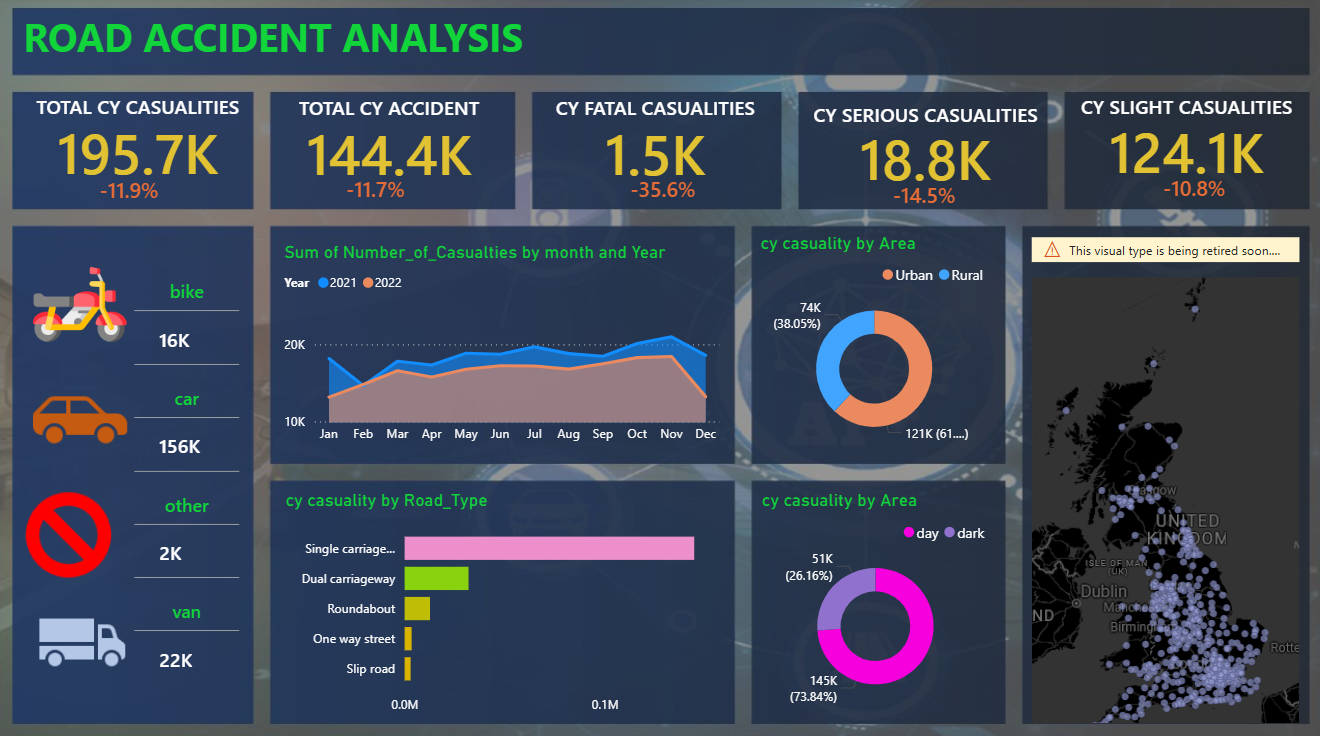

Layout of this report page (visuals, bound fields, positions):
{"tool":"powerbi","page":{"name":"Page 1","canvas":[1280,720],"ordinal":0},"visuals":[{"type":"card","title":"TOTAL CY ACCIDENT","fields":{"Values":["Data.CY ACCIDENT"]},"box":[270.2,95.3,214.7,84.5],"z":0},{"type":"card","fields":{"Values":["Data.YOY ACCIDENT"]},"box":[257,170.1,214.7,36.2],"z":1000},{"type":"card","fields":{"Values":["Data.yoy casualities"]},"box":[19.2,171,214.6,36.6],"z":1000,"group":"g1"},{"type":"card","title":"TOTAL CY CASUALITIES","fields":{"Values":["Data.cy casuality"]},"box":[28,94.7,214.7,85.7],"z":2000,"group":"g1"},{"type":"card","title":"CY FATAL CASUALITIES","fields":{"Values":["Data.CY ACCIDENT"]},"box":[527.2,95.3,214.7,84.5],"z":2000},{"type":"card","fields":{"Values":["Data.YOY ACCIDENT"]},"box":[534.5,170.1,214.7,36.2],"z":3000},{"type":"card","title":"CY SERIOUS CASUALITIES","fields":{"Values":["Data.CY ACCIDENT"]},"box":[779.4,101.5,231.9,83.7],"z":4000},{"type":"card","fields":{"Values":["Data.YOY ACCIDENT"]},"box":[787.1,175.7,214.7,36.2],"z":5000},{"type":"card","title":"CY SLIGHT CASUALITIES","fields":{"Values":["Data.CY ACCIDENT"]},"box":[1040,94.3,214.7,84.5],"z":6000},{"type":"card","fields":{"Values":["Data.YOY ACCIDENT"]},"box":[1047.2,169.1,214.7,36.2],"z":7000},{"type":"group","id":"g1","title":"Group 1","box":[0,0,223.2,113.4],"z":8000},{"type":"image","box":[33.9,237,90.3,122.9],"z":9000},{"type":"image","box":[10,359.9,139.2,99.1],"z":10000},{"type":"image","box":[0,467.7,135.4,104.1],"z":11000},{"type":"image","box":[36.4,571.8,90.3,102.8],"z":12000},{"type":"cardVisual","fields":{"Rows":["Data.Vehicle_Type (groups)"],"Data":["Data.cy casuality"]},"box":[126.6,228.2,111.6,461.4],"z":13000},{"type":"areaChart","fields":{"Y":["Sum(Data.Number_of_Casualties)"],"Series":["calender.Date.Variation.Date Hierarchy.Year"],"Category":["calender.month"]},"box":[270.8,237,430.1,204.4],"z":14000},{"type":"textbox","box":[18.8,10,823.8,69],"z":14001},{"type":"donutChart","title":"cy casuality by Area","fields":{"Category":["Data.Urban_or_Rural_Area"],"Y":["Data.cy casuality"]},"box":[731,228.2,229.5,213.2],"z":14002},{"type":"donutChart","title":"cy casuality by Area","fields":{"Y":["Data.cy casuality"],"Category":["Data.Light_Conditions (groups)"]},"box":[732.3,476.5,229.5,213.2],"z":14003},{"type":"barChart","fields":{"Y":["Data.cy casuality"],"Category":["Data.Road_Type"]},"box":[272.1,476.5,428.8,225.7],"z":14004},{"type":"map","fields":{"Category":["Data.Local_Authority_(District)"],"Y":["Avg(Data.Latitude)"],"X":["Avg(Data.Longitude)"]},"box":[993.1,228.2,268.3,474],"z":14005}]}

Visuals, with their boxes in screenshot pixels (x1, y1, x2, y2), scaled from the page's 1280x720 canvas onto the 1320x736 screenshot:
"TOTAL CY ACCIDENT" card: [279,97,500,184]
card - Data.YOY ACCIDENT: [265,174,486,211]
card - Data.yoy casualities: [20,175,241,212]
"TOTAL CY CASUALITIES" card: [29,97,250,184]
"CY FATAL CASUALITIES" card: [544,97,765,184]
card - Data.YOY ACCIDENT: [551,174,773,211]
"CY SERIOUS CASUALITIES" card: [804,104,1043,189]
card - Data.YOY ACCIDENT: [812,180,1033,217]
"CY SLIGHT CASUALITIES" card: [1072,96,1294,183]
card - Data.YOY ACCIDENT: [1080,173,1301,210]
"Group 1" group: [0,0,230,116]
image: [35,242,128,368]
image: [10,368,154,469]
image: [0,478,140,585]
image: [38,585,131,690]
cardVisual - Data.Vehicle_Type (groups) x Data.cy casuality: [131,233,246,705]
areaChart - Sum(Data.Number_of_Casualties) x calender.Date.Variation.Date Hierarchy.Year: [279,242,723,451]
textbox: [19,10,869,81]
"cy casuality by Area" donutChart: [754,233,991,451]
"cy casuality by Area" donutChart: [755,487,992,705]
barChart - Data.cy casuality x Data.Road_Type: [281,487,723,718]
map - Data.Local_Authority_(District) x Avg(Data.Latitude): [1024,233,1301,718]
